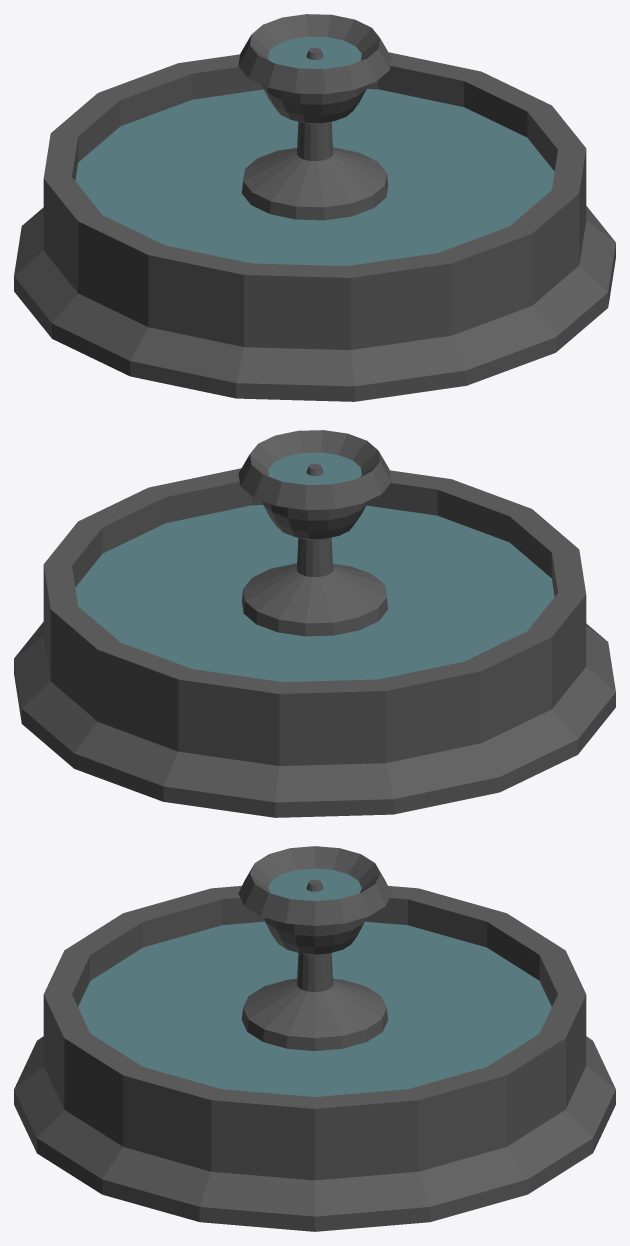
Rendered from Fonte.fbx.
3 renders of one model, top to bottom at view 1: azimuth 30°, elevation 25°; view 2: azimuth 150°, elevation 25°; view 3: azimuth 270°, elevation 25°, orthographic.
Visible parts, largest first — view 1: Cylinder; view 2: Cylinder; view 3: Cylinder.
Part boxes in pixels (x1,y1,x2,y2): Cylinder: [14, 14, 615, 401]; Cylinder: [14, 430, 615, 817]; Cylinder: [14, 846, 615, 1231].
Size of the model in its own units: 532 by 225 by 532.
